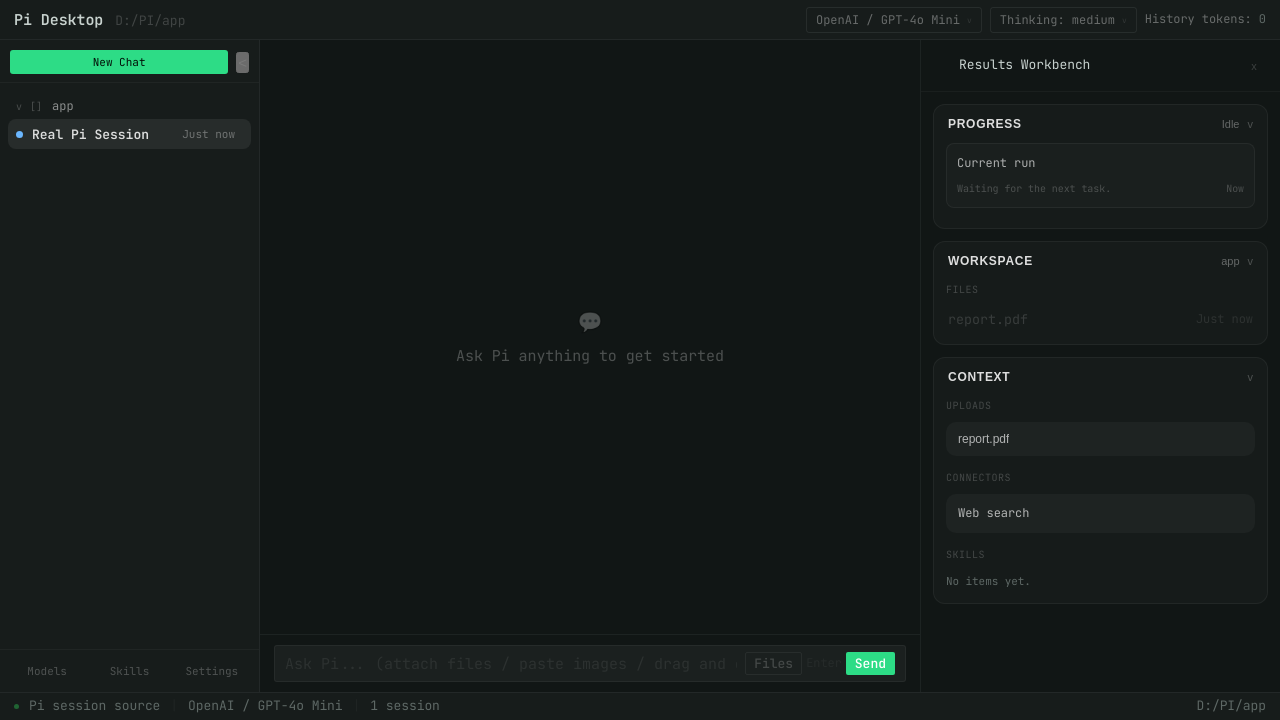
App › shows an explicit preview failure instead of silently doing nothing when a file cannot be read
Expected: the 1st text "report.pdf" is shown, [948,310,1028,328]
Click the 1st button "report.pdf".
click(1068, 319)  # box [948,308,1188,330]
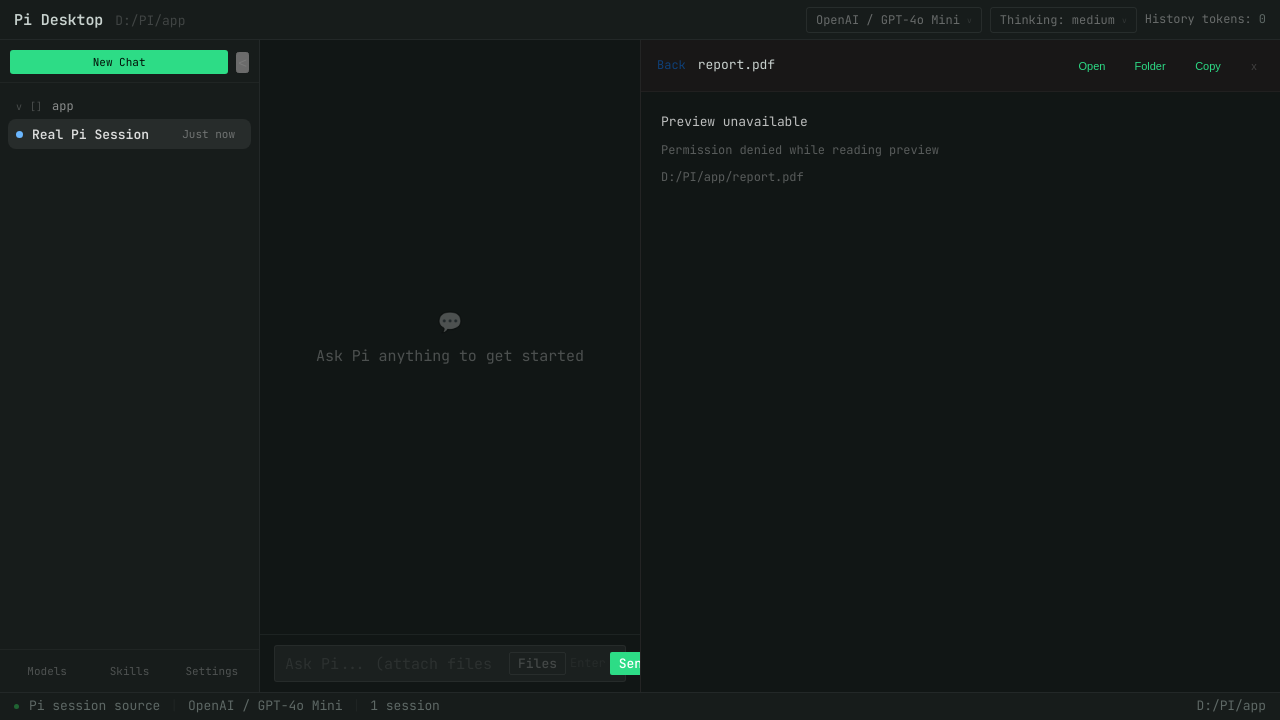
Expected: the text "Preview unavailable" is shown, [661,113,808,130]
Expected: the text "Permission denied while reading preview" is shown, [661,142,939,158]
